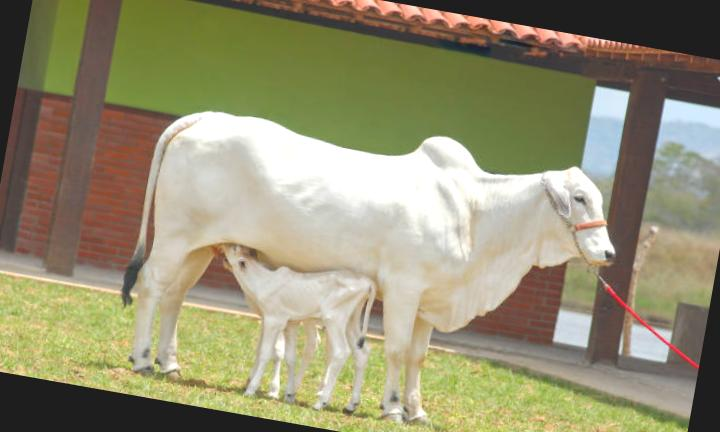Brahman: (131, 112, 616, 422), (214, 243, 378, 410)
